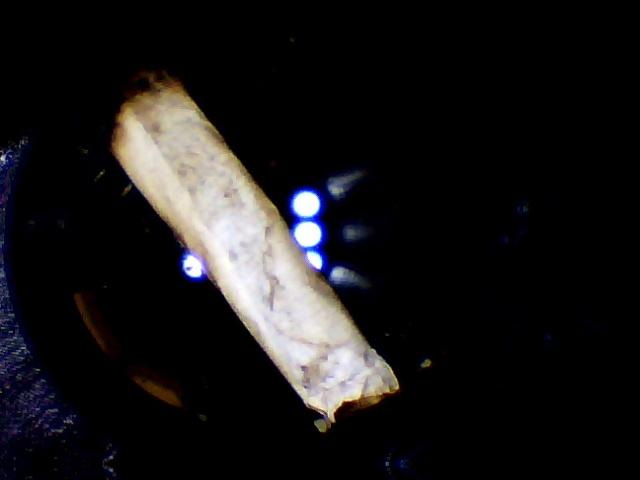megot: (97, 60, 406, 435)
